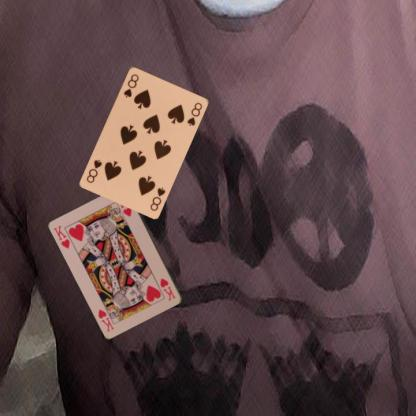8s: (121, 71, 140, 99), (148, 184, 166, 212)
Kh: (52, 223, 72, 250), (158, 276, 177, 302)
